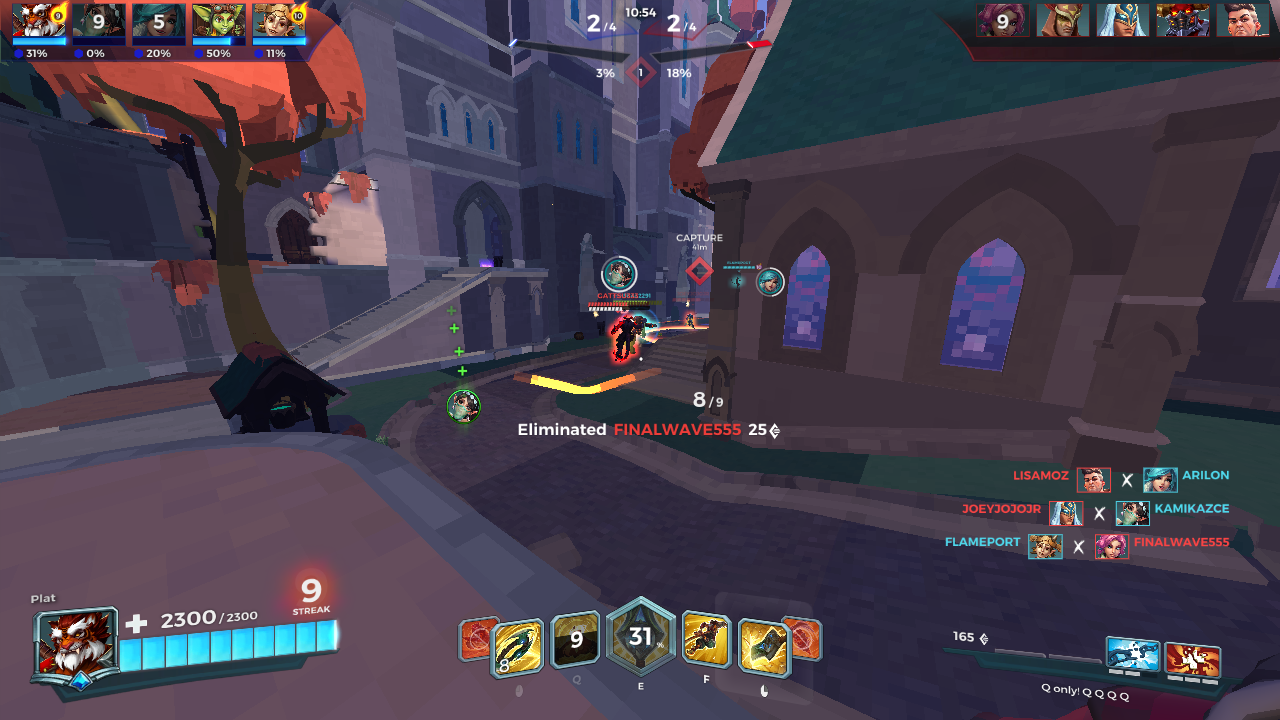model: (603, 312, 646, 365), (681, 307, 700, 331)
